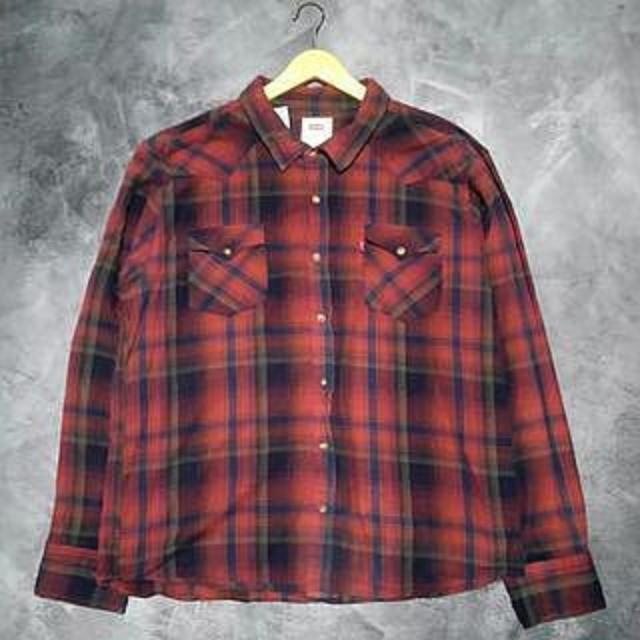SHIRT: (21, 58, 623, 627)
